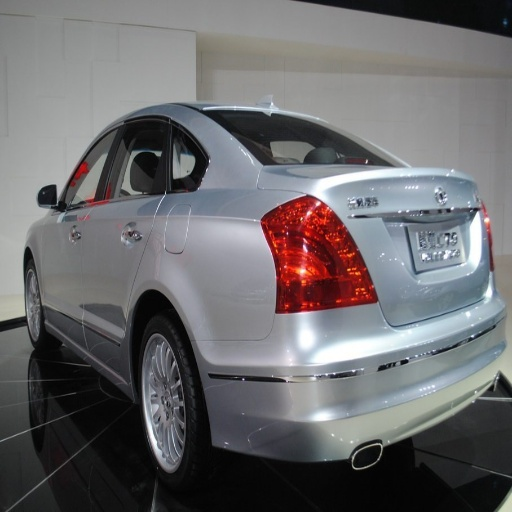back_bumper: (199, 271, 508, 466)
back_glass: (210, 115, 390, 165)
back_left_door: (87, 115, 174, 358)
tailgate: (298, 166, 492, 325)
trunk: (184, 298, 270, 350)
